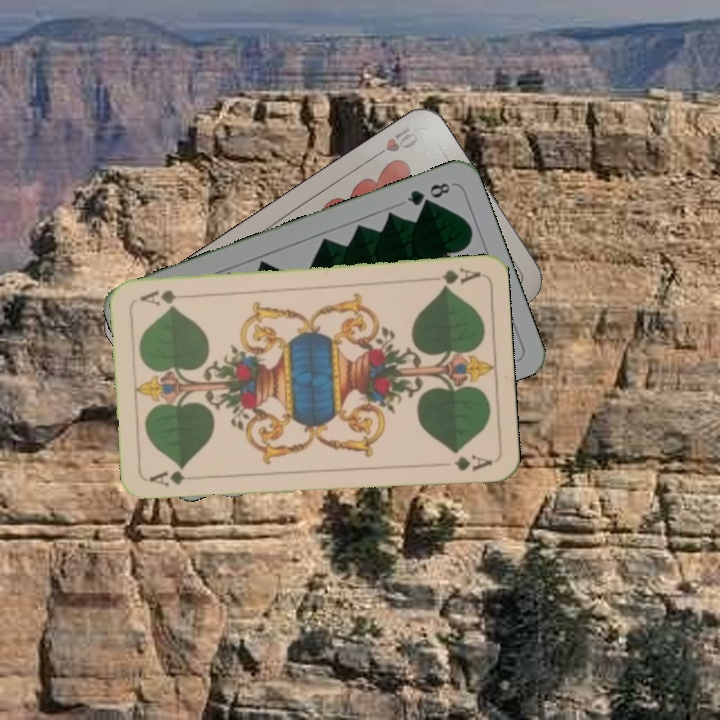G8: (402, 178, 453, 209)
GA: (145, 467, 204, 489), (438, 263, 482, 291)
H10: (367, 122, 421, 163)
